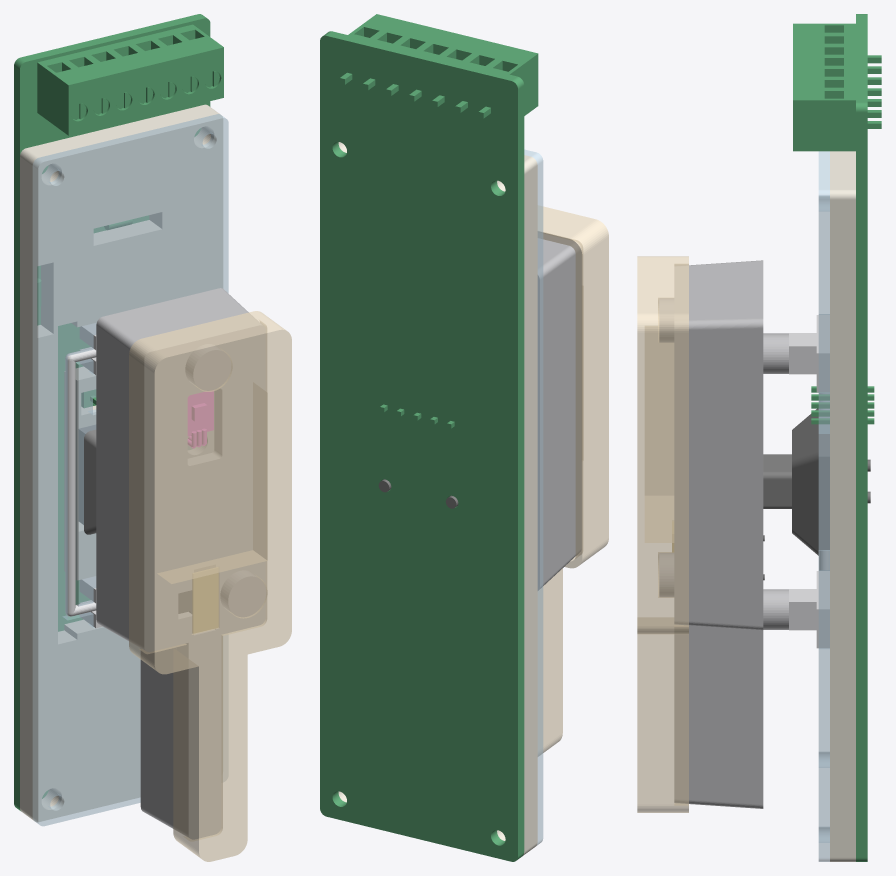
The model's file is stack_assembled.glb.
3 views of the same model, side by side, from view 1: azimuth 30°, elevation 25°; view 2: azimuth 150°, elevation 25°; view 3: azimuth 270°, elevation 25° (orthographic). The views are drawn at different scales.
Parts seen in each view (by area): view 1: 2_foam, 3_acrylic_plate, 5_topper, 4_key, 1_pcb, 3b_stabilizer, 5a_magnets_topper, 3a_switch, 5b_short_plate, 4a_rgb_led_strip_piece; view 2: 1_pcb, 5_topper, 4_key, 2_foam, 3_acrylic_plate; view 3: 4_key, 5_topper, 1_pcb, 2_foam, 3_acrylic_plate, 3a_switch, 3b_stabilizer, 5a_magnets_topper.
Boxes of the visible parts, box(x1,y1,x2,y2) form: 2_foam: box(20, 104, 222, 821); 3_acrylic_plate: box(32, 114, 228, 826); 5_topper: box(129, 311, 291, 861); 4_key: box(96, 288, 265, 839); 1_pcb: box(14, 14, 223, 810); 3b_stabilizer: box(65, 323, 102, 628); 5a_magnets_topper: box(186, 345, 265, 616); 3a_switch: box(79, 425, 96, 534); 5b_short_plate: box(192, 573, 218, 633); 4a_rgb_led_strip_piece: box(188, 391, 213, 448); 1_pcb: box(320, 14, 538, 861); 5_topper: box(538, 205, 608, 756); 4_key: box(538, 234, 581, 590); 2_foam: box(338, 142, 537, 855); 3_acrylic_plate: box(524, 149, 543, 845); 4_key: box(674, 260, 788, 808); 5_topper: box(637, 256, 688, 812); 1_pcb: box(793, 14, 881, 861); 2_foam: box(830, 151, 855, 861); 3_acrylic_plate: box(818, 151, 829, 861); 3a_switch: box(763, 408, 870, 555); 3b_stabilizer: box(789, 315, 829, 648); 5a_magnets_topper: box(659, 298, 673, 596).
Bounding box in the file's own units: 30 × 113 × 33.
